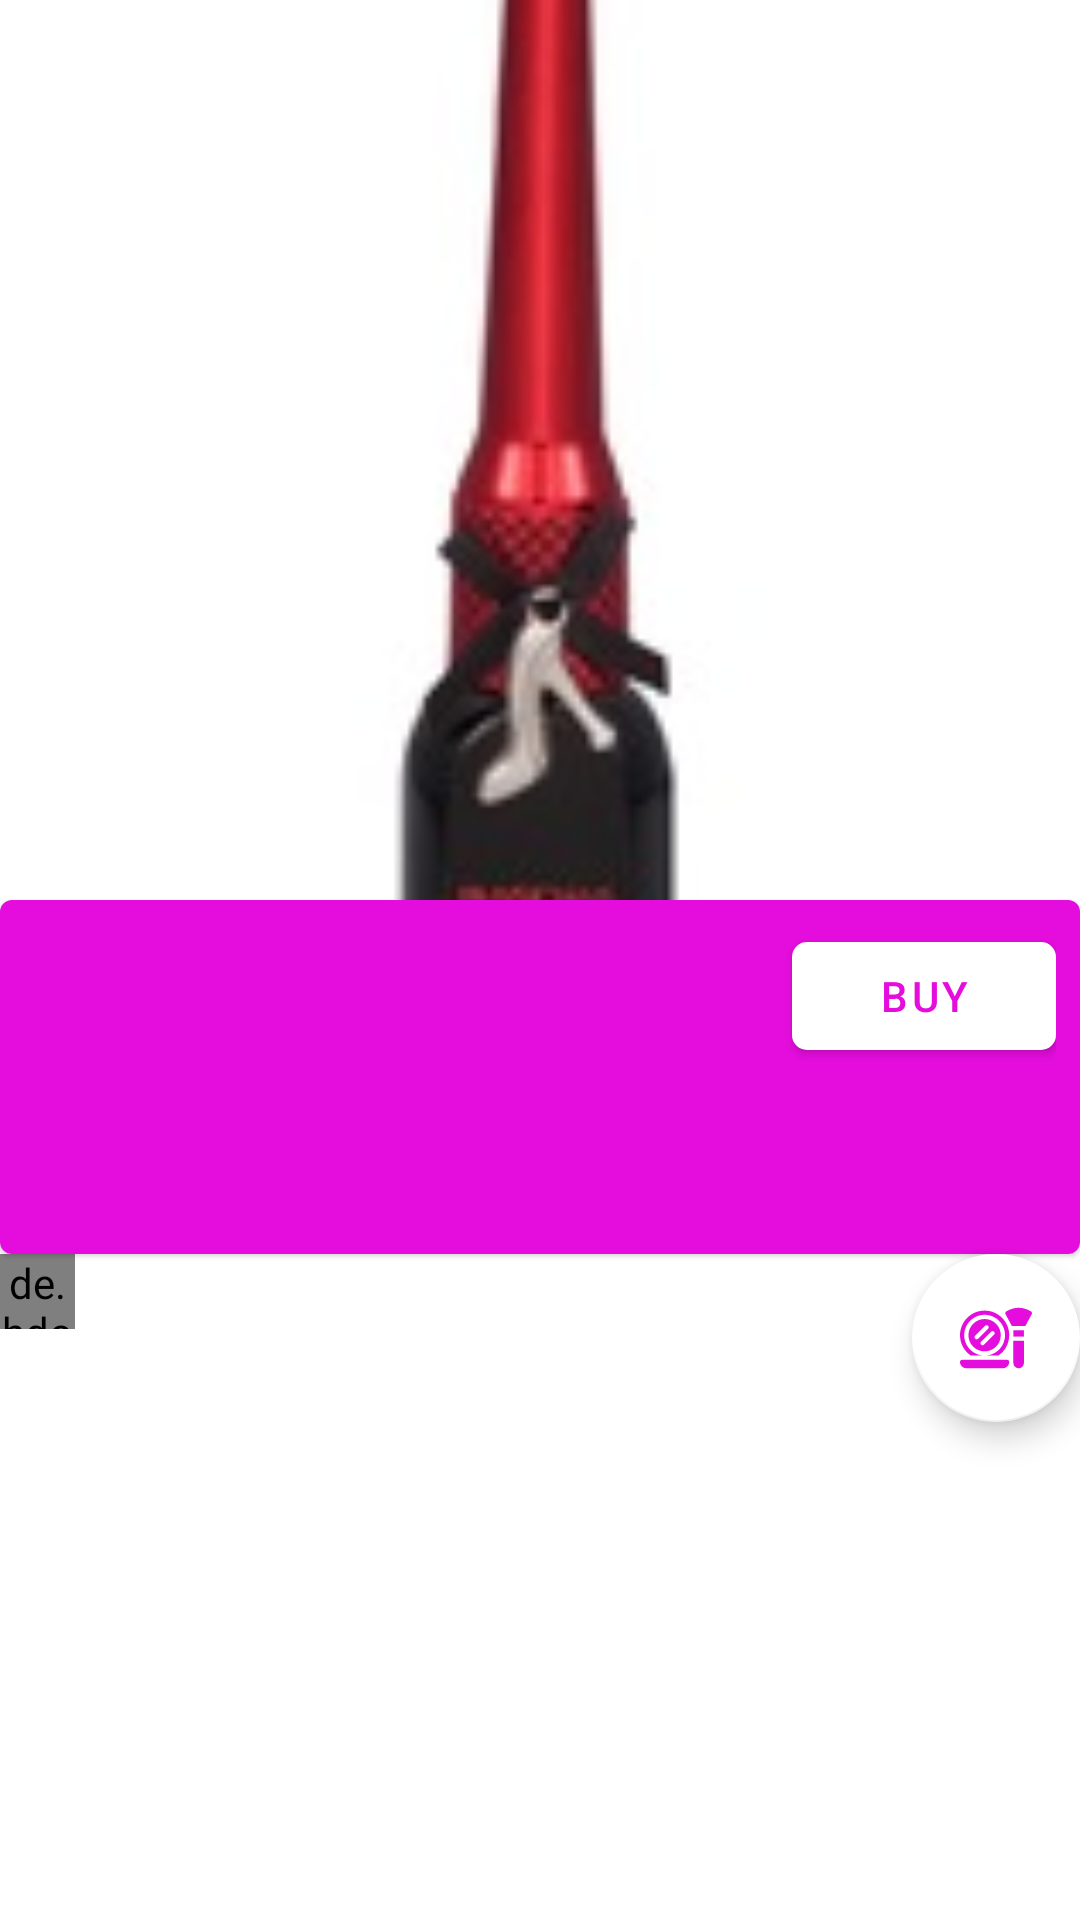

Point at icon controls on the screen. Image size 1080px x 1920px, points as point (x, y).
make up description: point (996, 1338)
